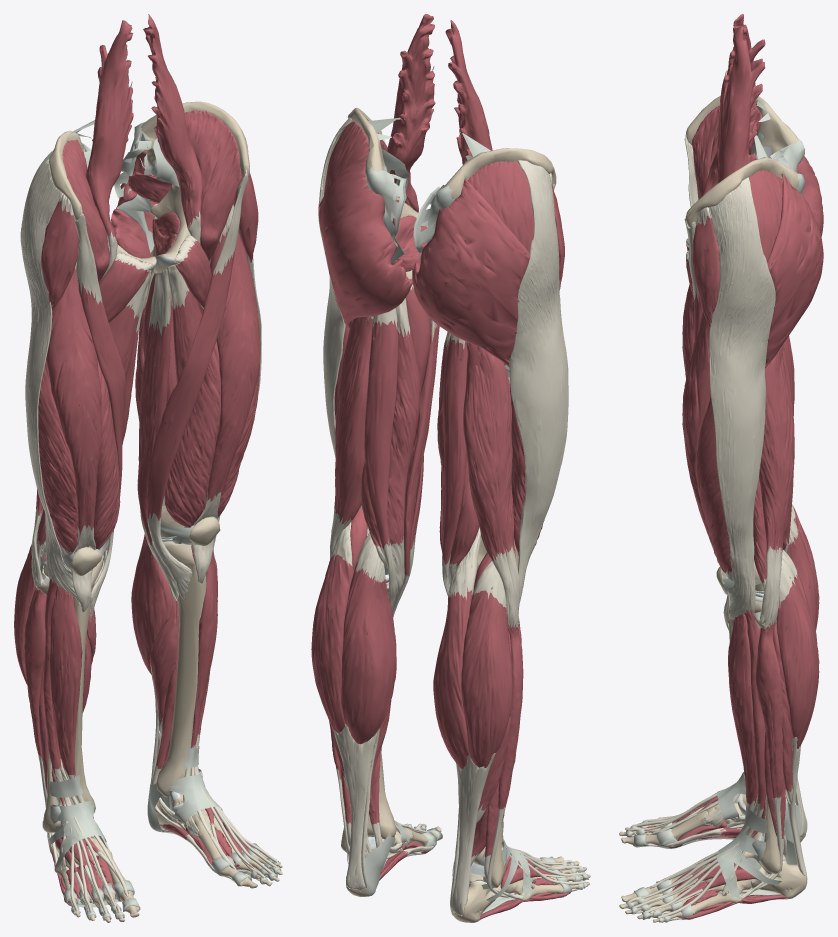
File: lower.glb
3 views of the same model, side by side, from view 1: azimuth 30°, elevation 25°; view 2: azimuth 150°, elevation 25°; view 3: azimuth 270°, elevation 25° (orthographic). The views are drawn at different scales.
Visible parts, largest first — view 1: za-fc1ad71e9ef5, za-1ad68c891597, za-1015b69ae076, za-c50e8a3180cf, za-c4d8dae87a85, za-5af4352e248a, za-28f17798255a, za-a88fde0fa128, za-dcb37970a81f, za-2b1ab0ddc940, za-44581a576dec, za-60d4548da007 (+41 smaller); view 2: za-c50e8a3180cf, za-98e8733790d1, za-abed6255478a, za-db4c9d48439b, za-a5d8eb10a862, za-086ab68959e8, za-bf84fa47e064, za-f3b2f018a174, za-4c03c18e26d3, za-870e0dfdb503, za-653a39515c39, za-2b1ab0ddc940 (+26 smaller); view 3: za-119decb9d97f, za-4c03c18e26d3, za-db4c9d48439b, za-653a39515c39, za-2b1ab0ddc940, za-58f67cbfb252, za-46efa603e87c, za-1ad68c891597, za-02106c69e942, za-5de17f418d0a, za-98cfd2e47395, za-b35f882e1ad3 (+28 smaller).
Part boxes in pixels (box(x1,y1,x2,y2)): za-fc1ad71e9ef5: box(46, 262, 101, 611); za-1ad68c891597: box(191, 204, 260, 583); za-1015b69ae076: box(147, 170, 248, 599); za-c50e8a3180cf: box(20, 150, 76, 597); za-c4d8dae87a85: box(86, 20, 133, 281); za-5af4352e248a: box(164, 341, 220, 563); za-28f17798255a: box(156, 541, 206, 797); za-a88fde0fa128: box(137, 269, 179, 601); za-dcb37970a81f: box(184, 110, 242, 262); za-2b1ab0ddc940: box(143, 14, 202, 243); za-44581a576dec: box(73, 210, 125, 621); za-60d4548da007: box(49, 586, 112, 854); za-c50e8a3180cf: box(509, 160, 568, 605); za-98e8733790d1: box(412, 178, 529, 367); za-abed6255478a: box(463, 341, 519, 628); za-db4c9d48439b: box(318, 156, 412, 328); za-a5d8eb10a862: box(341, 532, 396, 744); za-086ab68959e8: box(461, 561, 512, 768); za-bf84fa47e064: box(364, 308, 398, 609); za-f3b2f018a174: box(361, 298, 420, 593); za-4c03c18e26d3: box(330, 316, 373, 559); za-870e0dfdb503: box(433, 527, 480, 768); za-653a39515c39: box(311, 522, 353, 733); za-2b1ab0ddc940: box(387, 14, 435, 212); za-119decb9d97f: box(709, 177, 775, 619); za-4c03c18e26d3: box(759, 345, 794, 627); za-db4c9d48439b: box(765, 174, 823, 367); za-653a39515c39: box(776, 558, 819, 748); za-2b1ab0ddc940: box(717, 26, 765, 183); za-58f67cbfb252: box(741, 621, 783, 893); za-46efa603e87c: box(712, 614, 757, 857); za-1ad68c891597: box(682, 312, 730, 630); za-02106c69e942: box(696, 396, 754, 620); za-5de17f418d0a: box(692, 207, 720, 327); za-98cfd2e47395: box(748, 170, 782, 260); za-b35f882e1ad3: box(744, 610, 766, 836).
Size of the model in its own units: 0.3223 by 1.15 by 0.2492.
